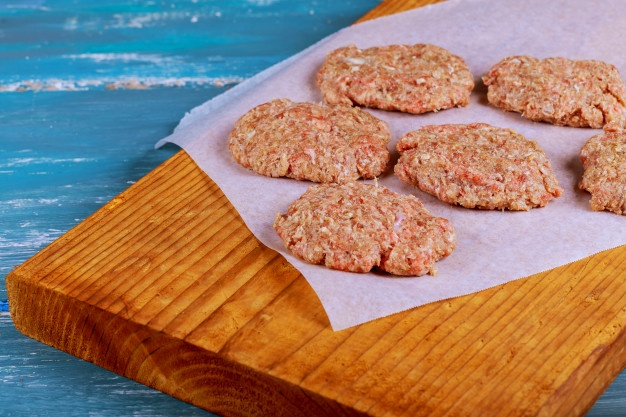ground_beef: (270, 183, 467, 283), (390, 116, 563, 216), (230, 86, 385, 180), (306, 40, 471, 118), (479, 46, 626, 133)
